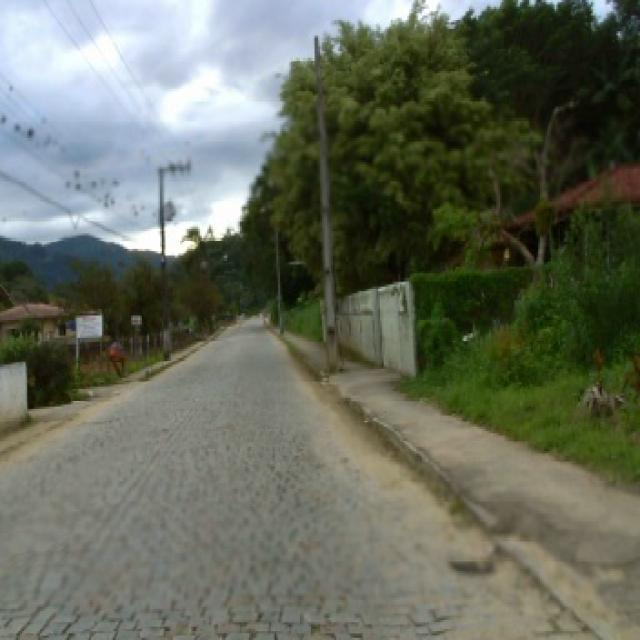Poth-hole: (444, 538, 501, 576)
